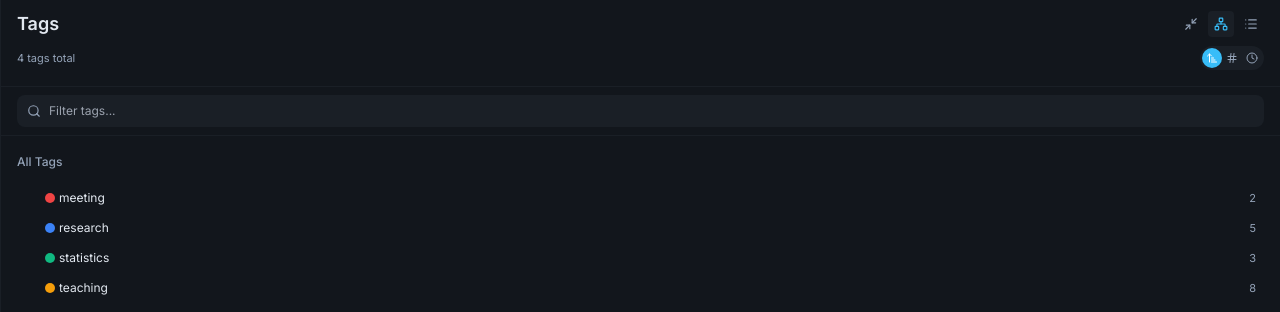
Scenario: TagsPanel Component › Tag Search/Filter › shows no matches message when search has no results
Step 1. Type "nonexistenttag" into the field with placeholder "Filter tags..." → (640, 111), box [17,95,1264,127]
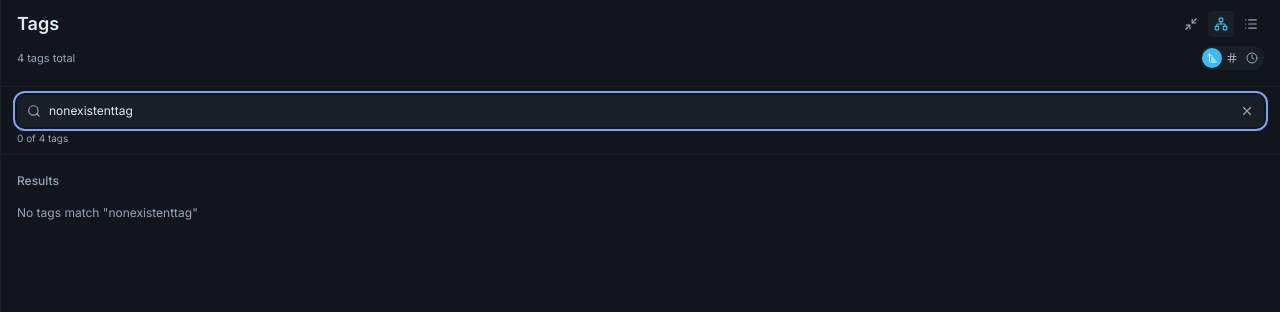
Expected: the text "No tags match \"nonexistenttag\"" is shown, [17,205,198,220]
